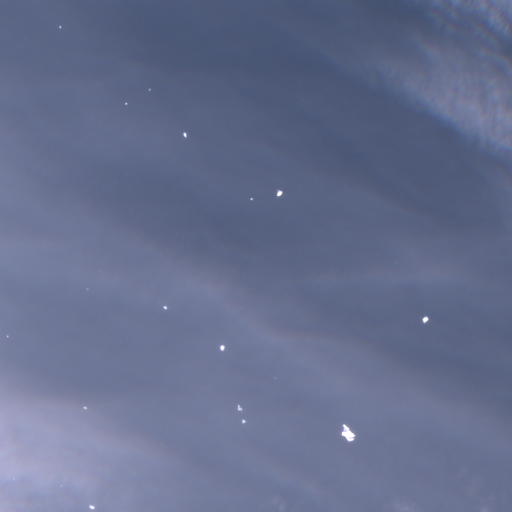Iceberg: (341, 424, 355, 441), (422, 316, 428, 323), (277, 189, 282, 196), (237, 404, 242, 410), (220, 345, 225, 350), (182, 132, 186, 137), (89, 505, 94, 509), (163, 306, 167, 309), (242, 419, 245, 423), (83, 406, 86, 409), (59, 25, 61, 28), (250, 197, 252, 200), (148, 88, 150, 90), (125, 102, 127, 104), (6, 335, 8, 337), (86, 288, 88, 289)
